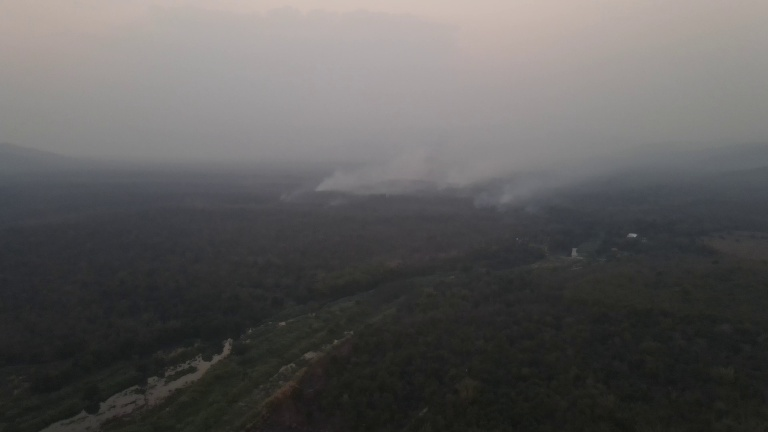smoke: (309, 124, 561, 215)
